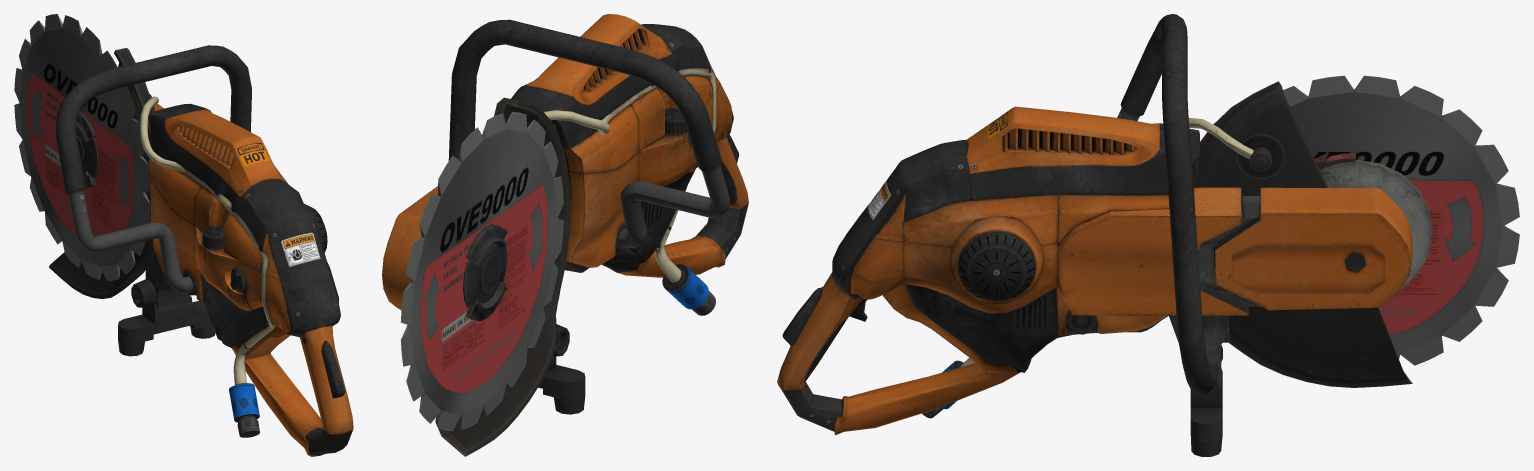
The model's file is ove9000_saw.obj.
3 views of the same model, side by side, from view 1: azimuth 30°, elevation 25°; view 2: azimuth 150°, elevation 25°; view 3: azimuth 270°, elevation 25° (orthographic). The views are drawn at different scales.
Parts seen in each view (by area): view 1: saw_body, saw_blade, saw_protection, saw_spinner_core, saw_spinner_top; view 2: saw_body, saw_blade, saw_protection, saw_spinner_core, saw_spinner_top, saw_spinner_bottom; view 3: saw_body, saw_blade, saw_protection.
Boxes of the visible parts, <box> form: saw_body: <box>55,45,353,456</box>; saw_blade: <box>14,14,150,280</box>; saw_protection: <box>49,48,155,298</box>; saw_spinner_core: <box>76,126,98,177</box>; saw_spinner_top: <box>76,111,96,142</box>; saw_body: <box>382,14,748,414</box>; saw_blade: <box>400,111,563,431</box>; saw_protection: <box>435,97,570,456</box>; saw_spinner_core: <box>463,239,507,307</box>; saw_spinner_top: <box>465,224,507,265</box>; saw_spinner_bottom: <box>465,282,507,321</box>; saw_body: <box>777,14,1412,456</box>; saw_blade: <box>1283,75,1519,365</box>; saw_protection: <box>1193,81,1432,387</box>.
Bounding box in the file's own units: 0.3472 × 0.4936 × 0.9.
